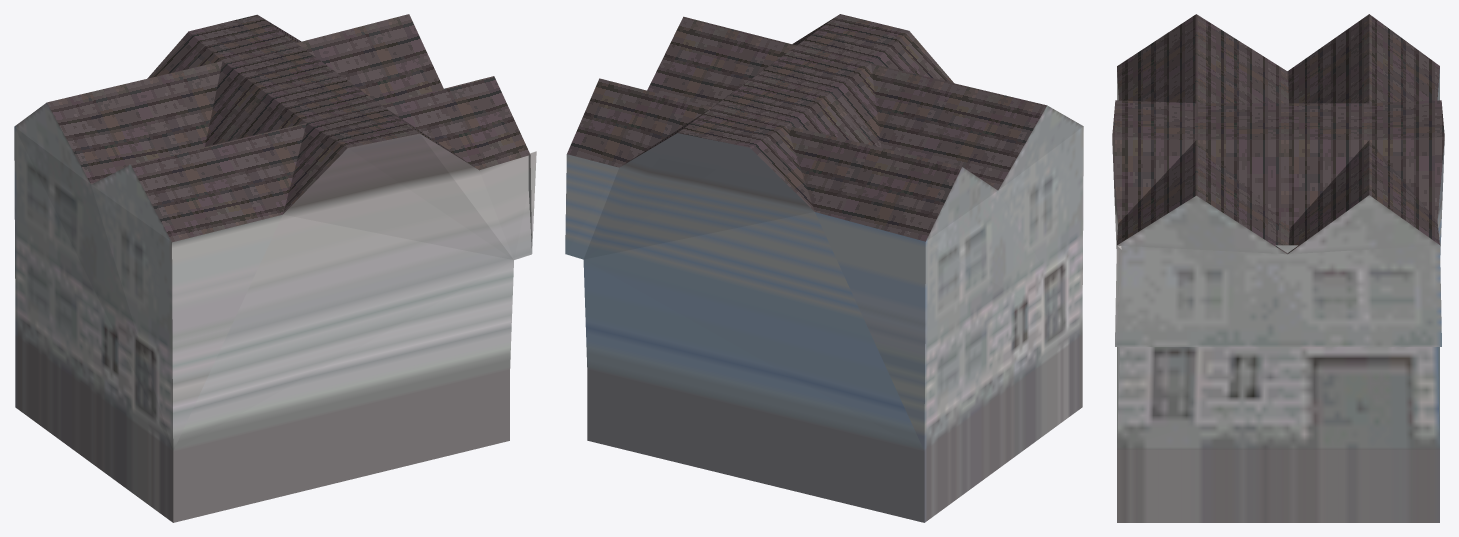
The model's file is lod_hse_14_sfxrf.obj.
The picture shows the model from 3 angles, left to right: view 1: azimuth 30°, elevation 25°; view 2: azimuth 150°, elevation 25°; view 3: azimuth 270°, elevation 25°; orthographic projection. The views are drawn at different scales.
Parts seen in each view (by area): view 1: LOD_hse_14_SFXRF; view 2: LOD_hse_14_SFXRF; view 3: LOD_hse_14_SFXRF.
Part boxes in pixels (x1,y1,x2,y2): LOD_hse_14_SFXRF: (14,14,536,522); LOD_hse_14_SFXRF: (565,14,1083,522); LOD_hse_14_SFXRF: (1112,14,1444,522).
Size of the model in its own units: 10.83 by 9.33 by 8.25.
Materials: 3 (3 with a texture image).
